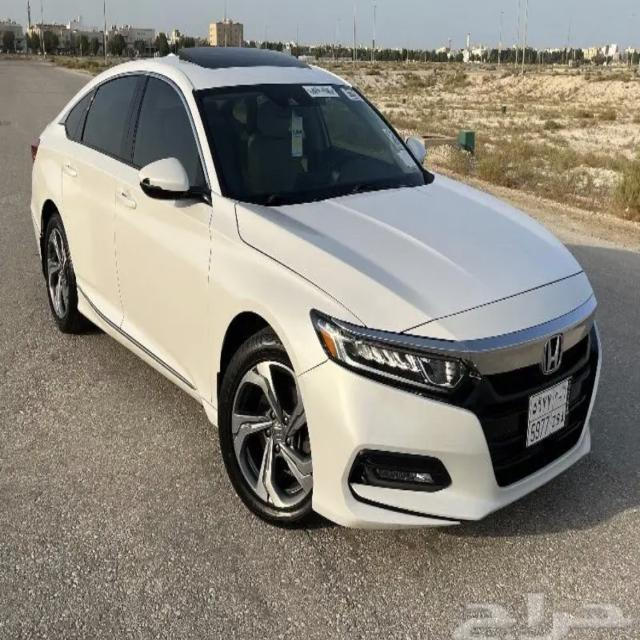license_plate: (528, 379, 573, 444)
